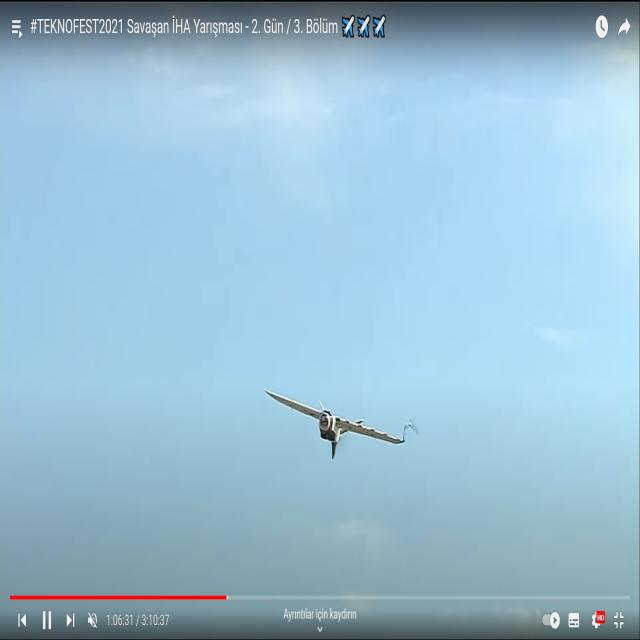iha: (263, 421, 404, 427)
